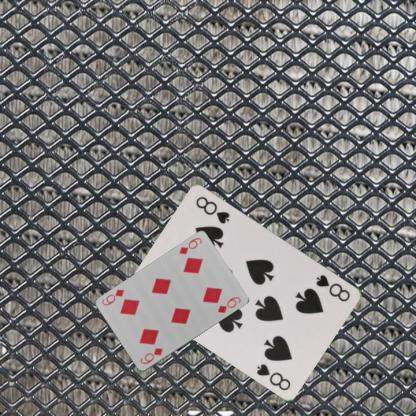6d: (177, 235, 203, 256), (138, 346, 164, 366)
8s: (314, 272, 352, 302)
